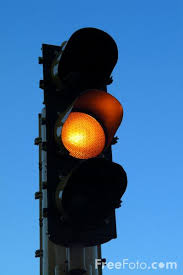amber: (39, 28, 126, 248), (53, 37, 119, 235), (61, 44, 107, 229)
